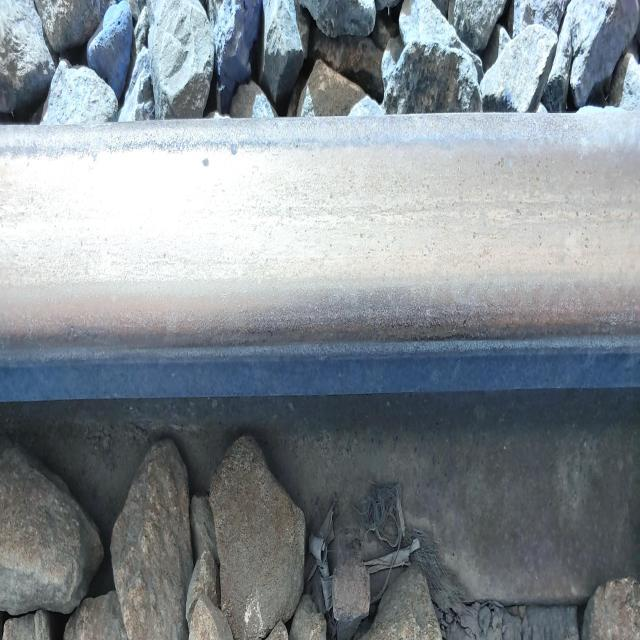Good Fasteners: (332, 528, 371, 640)
